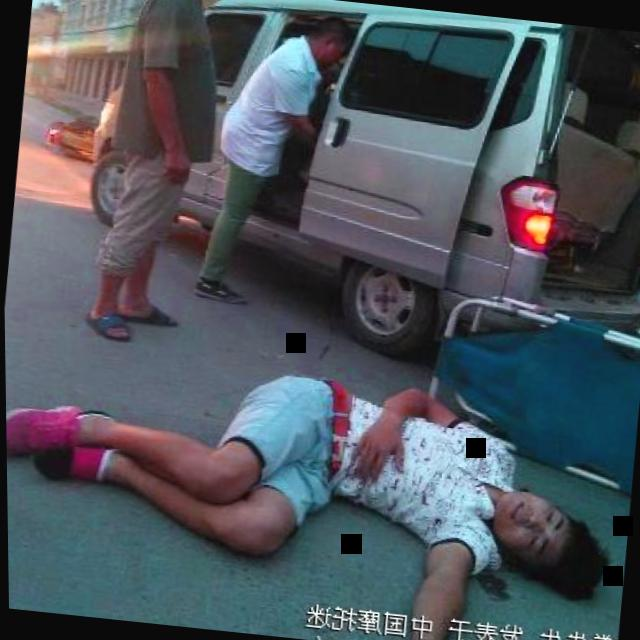Fall-Detected: (4, 326, 629, 640)
